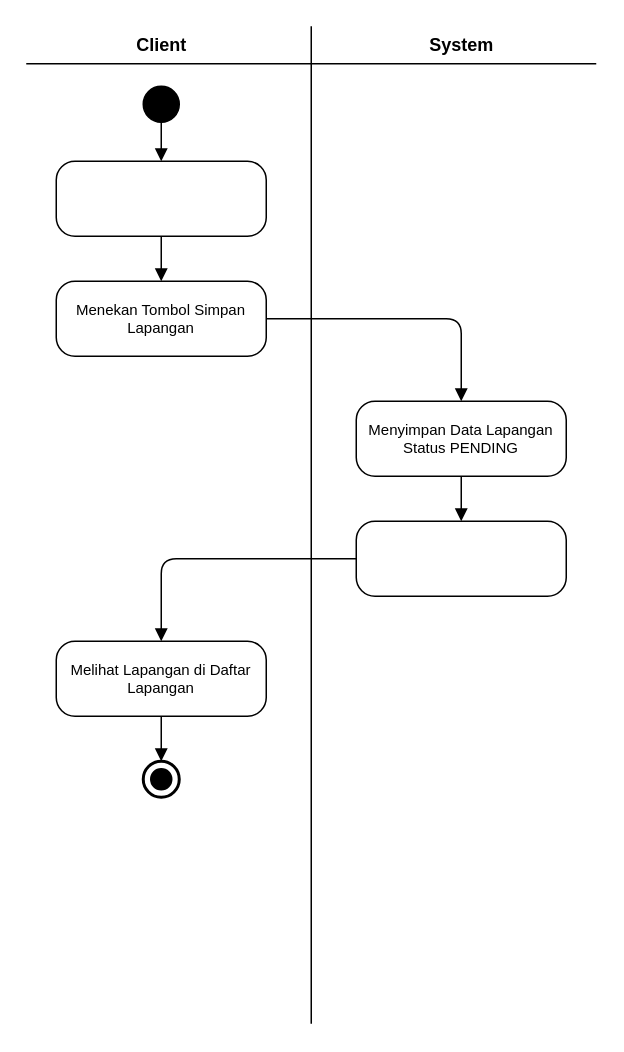
Image size: 624x1052. Some labels were removed from this diagram. Here are the shapes that lost their labels. From the top down, the centre of each, then its label:
At [160,198]: "Mengisi Data Unit Lapangan & Harga".
At [460,558]: "Menampilkan Konfirmasi Penambahan".
